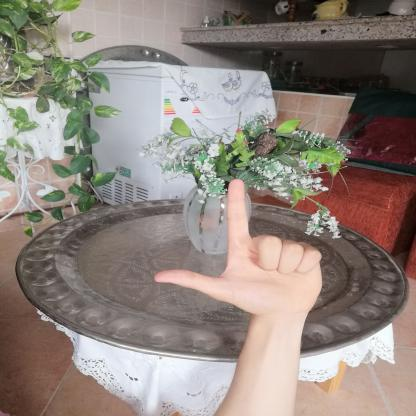LAAM: (137, 169, 335, 324)
